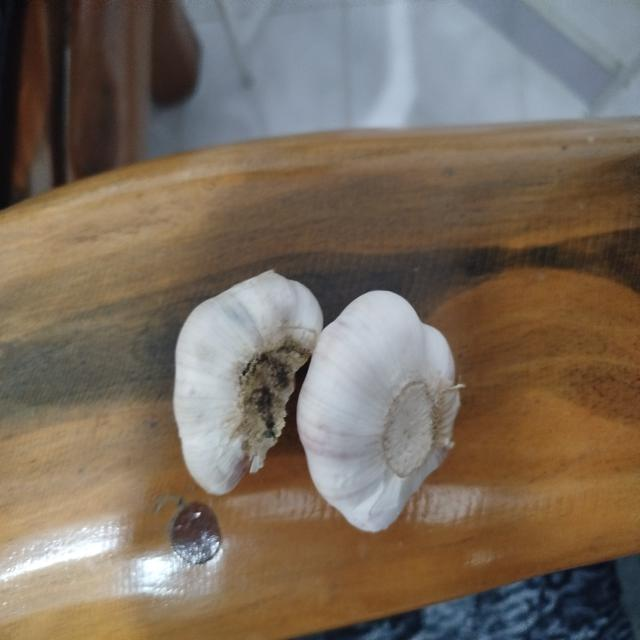garlic: (296, 289, 465, 533), (172, 268, 324, 496)
